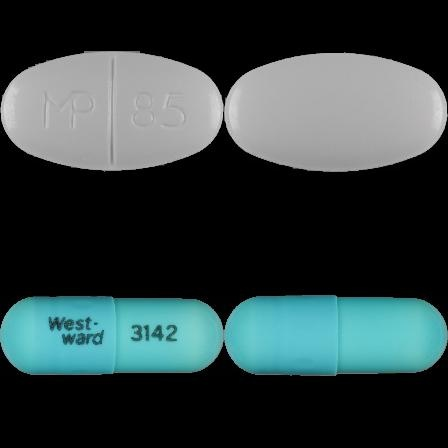60429-259: (0, 0, 224, 224)
